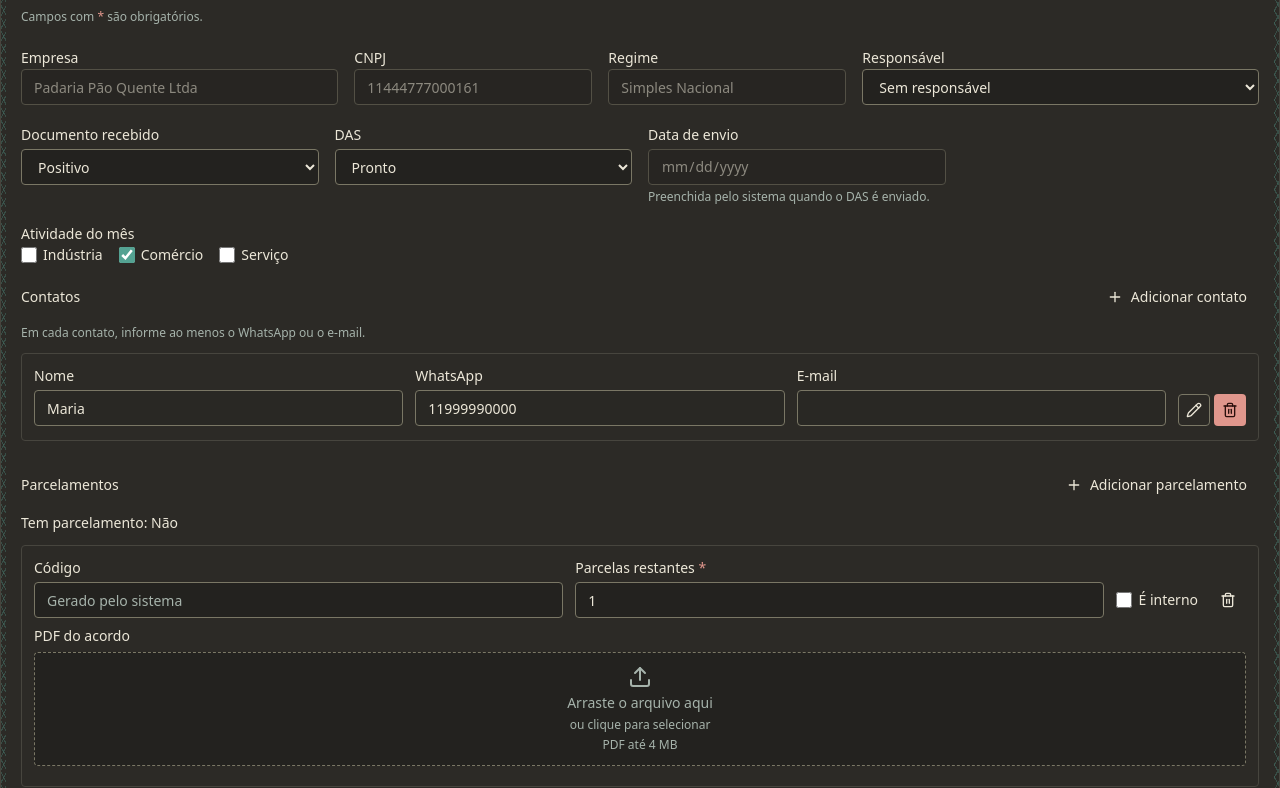
Test: EditarCadastroOperacionalContainer › Responsável: erro ao atribuir mostra a mensagem e não navega
Click the dropdown labelled "Responsável". click: (1061, 87)
box: [862,69,1259,105]
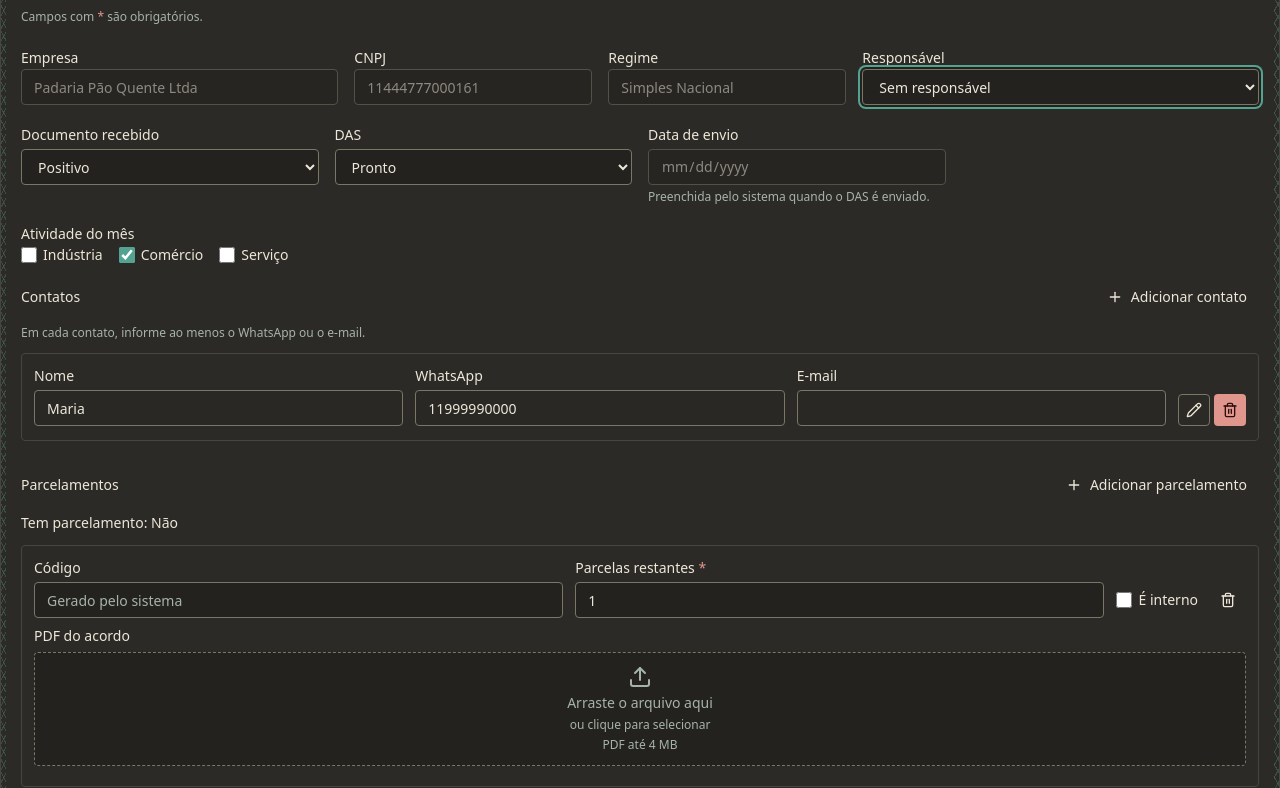
Select "Funcionário SN" in the dropdown labelled "Responsável". click: (1061, 87)
box: [862,69,1259,105]
(page scrolled)
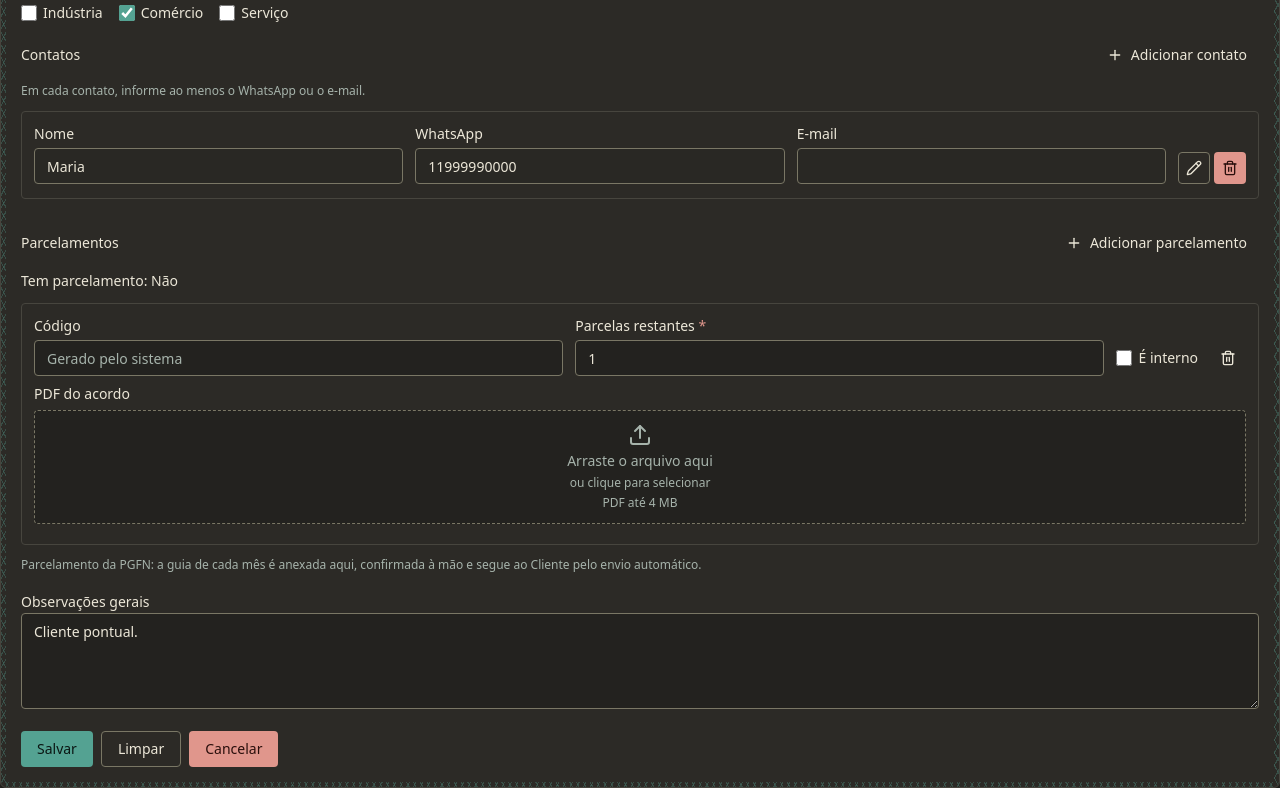
Click the button "Salvar". click: (57, 749)
box: [21,731,93,767]
(page scrolled)
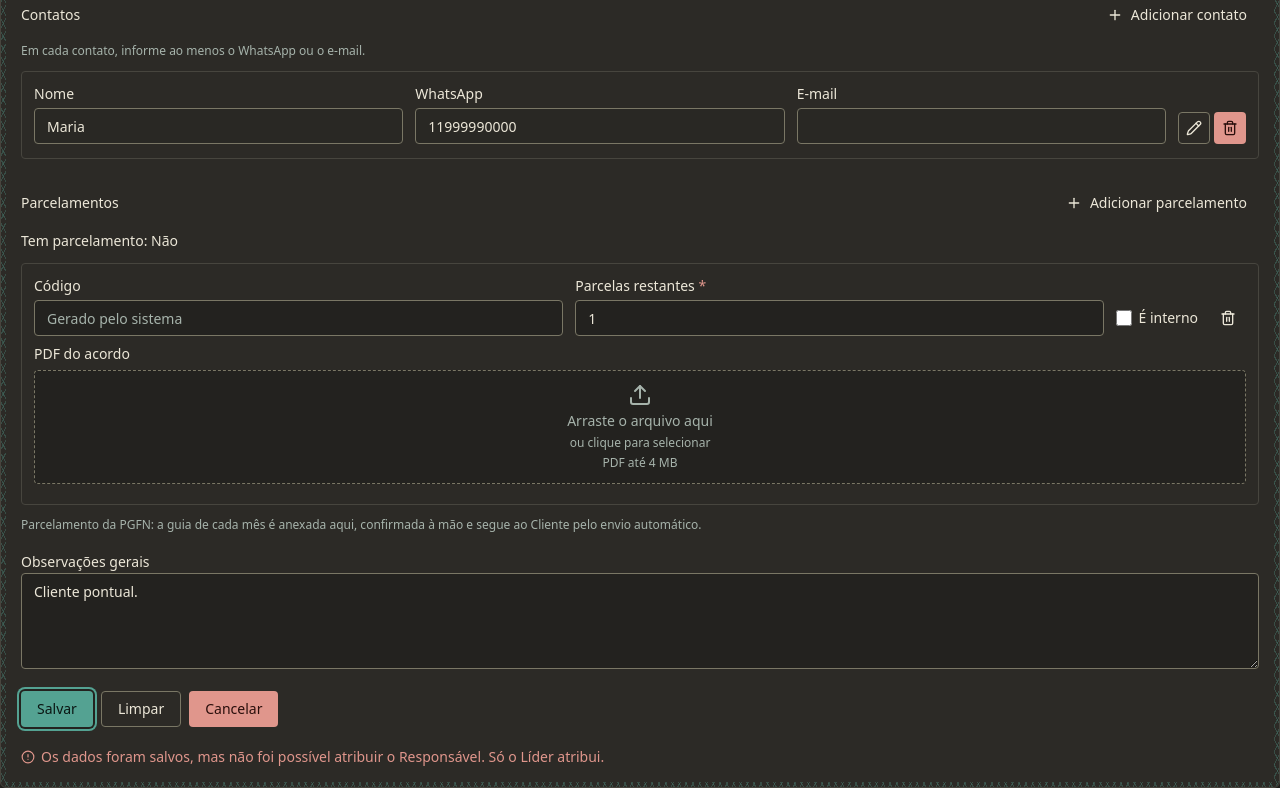
Expected: the text "Só o Líder atribui." is shown, [41,747,604,766]
